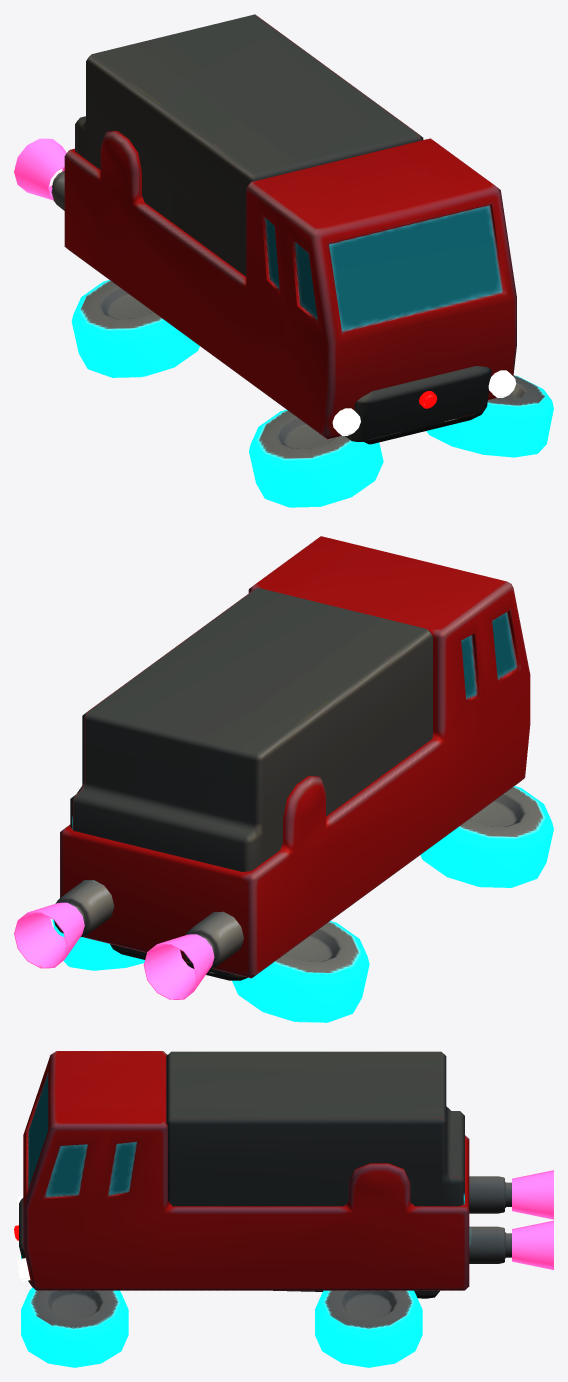
Rendered from Car_4.fbx.
3 views of the same model, one above another, from view 1: azimuth 30°, elevation 25°; view 2: azimuth 150°, elevation 25°; view 3: azimuth 270°, elevation 25° (orthographic). The views are drawn at different scales.
Parts seen in each view (by area): view 1: Car_4; view 2: Car_4; view 3: Car_4.
Boxes of the visible parts, box(x1,y1,x2,y2) form: Car_4: box(14, 14, 553, 507); Car_4: box(14, 536, 553, 1022); Car_4: box(14, 1051, 553, 1367).
Size of the model in its own units: 658 by 596 by 1291.
